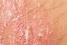plaque psoriasis: (0, 0, 54, 45)
